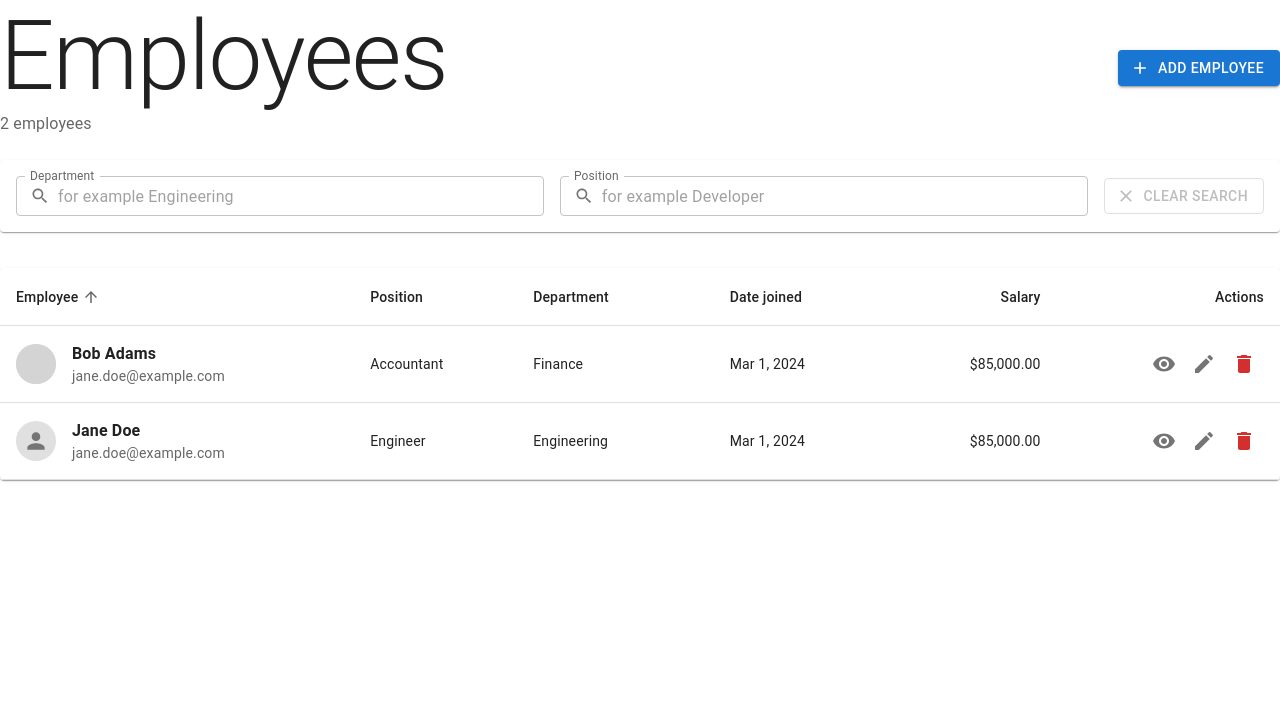
Test: EmployeeListPage: deleting › cancels with the Escape key
This screenshot has width=1280, height=720.
Click the button named "Delete Jane Doe" at (1244, 441), box x1=1224 y1=421 x2=1264 y2=461
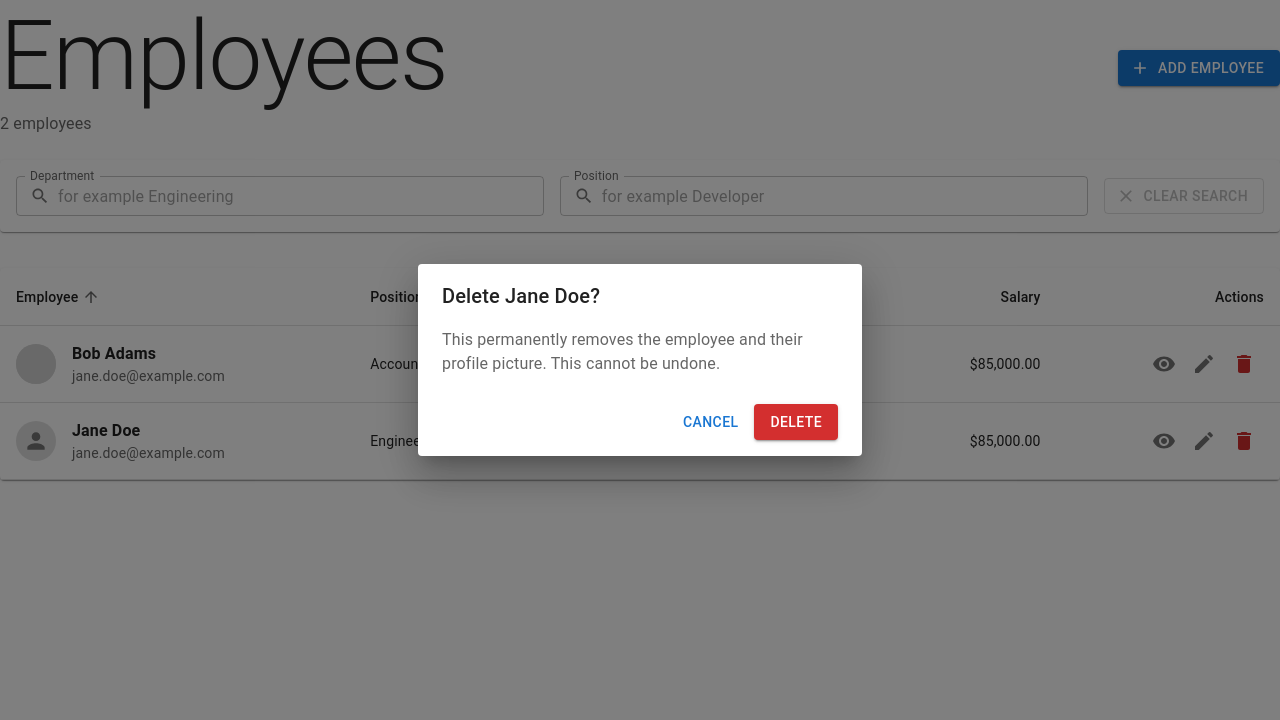
Expected: the dialog is shown, x1=418 y1=264 x2=862 y2=456
Press Escape
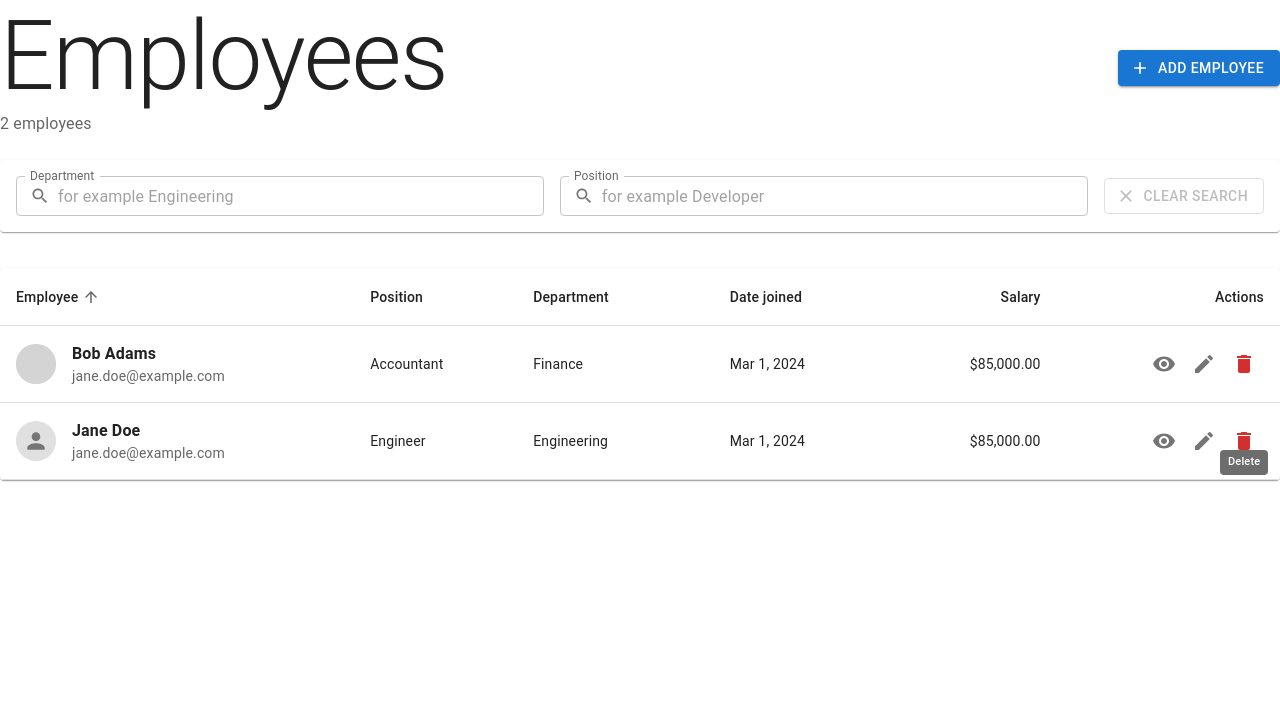
Expected: the dialog is gone
